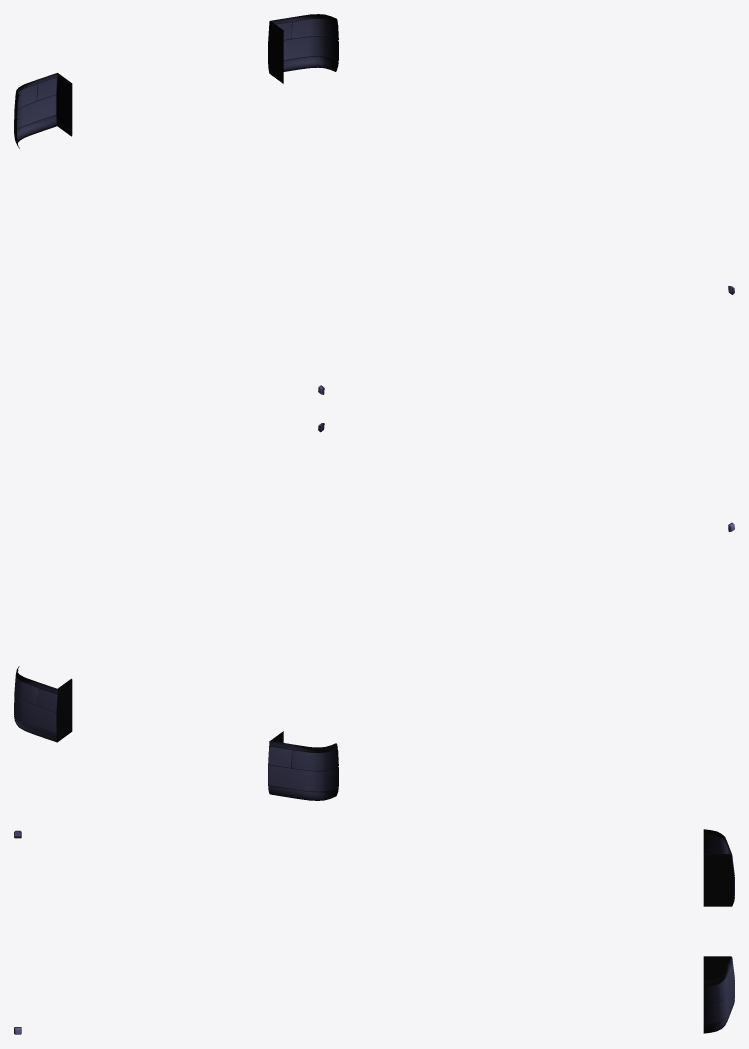
The model's file is MC_XJ220s_Light_detail.fbx.
3 views of the same model, one above another, from view 1: azimuth 30°, elevation 25°; view 2: azimuth 150°, elevation 25°; view 3: azimuth 270°, elevation 25° (orthographic).
Parts seen in each view (by area): view 1: MC_XJ220s_Light_detail; view 2: MC_XJ220s_Light_detail; view 3: MC_XJ220s_Light_detail.
Part boxes in pixels (<box>): MC_XJ220s_Light_detail: <box>14,14,734,394</box>; MC_XJ220s_Light_detail: <box>14,423,734,800</box>; MC_XJ220s_Light_detail: <box>14,829,734,1034</box>.
Bounding box in the file's own units: 201 × 24.87 × 308.
